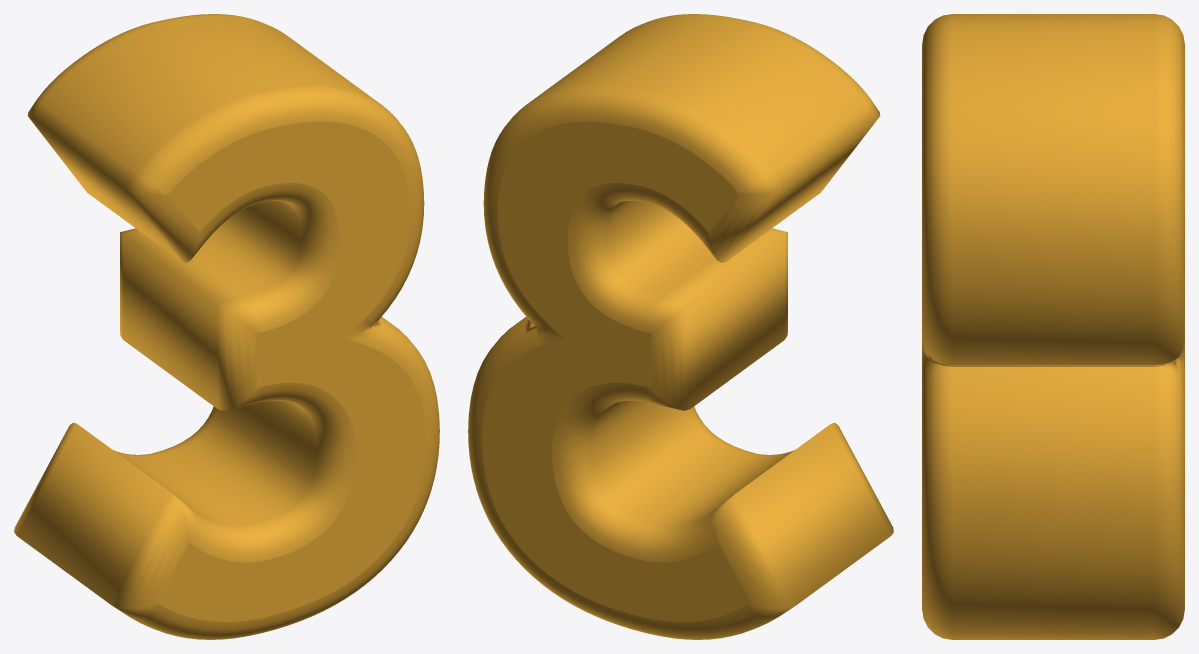
3 views of the same model, side by side, from view 1: azimuth 30°, elevation 25°; view 2: azimuth 150°, elevation 25°; view 3: azimuth 270°, elevation 25° (orthographic). The views are drawn at different scales.
Visible parts, largest first — view 1: Text; view 2: Text; view 3: Text.
Boxes of the visible parts, <box> form: Text: <box>14,14,439,639</box>; Text: <box>468,14,893,639</box>; Text: <box>922,14,1184,639</box>.
Size of the model in its own units: 39.79 by 63.02 by 26.
